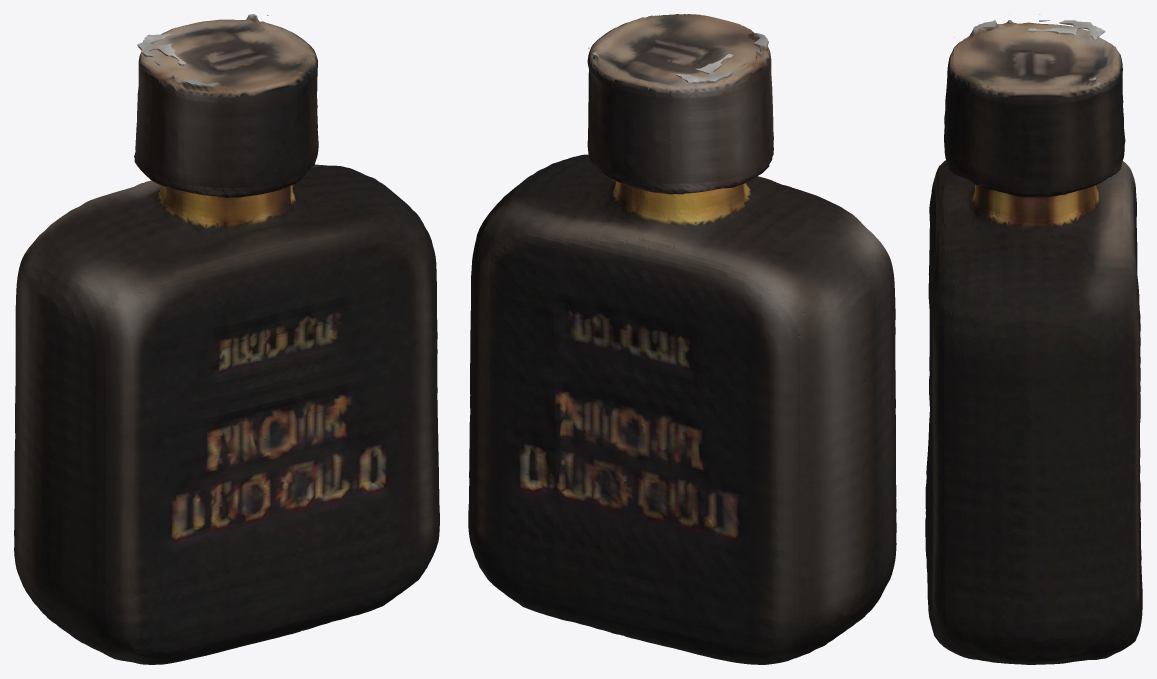
The model's file is product2.glb.
3 views of the same model, side by side, from view 1: azimuth 30°, elevation 25°; view 2: azimuth 150°, elevation 25°; view 3: azimuth 270°, elevation 25° (orthographic). The views are drawn at different scales.
Parts seen in each view (by area): view 1: world; view 2: world; view 3: world.
Boxes of the visible parts, box(x1,y1,x2,y2) form: world: box(14, 14, 439, 664); world: box(468, 14, 896, 664); world: box(925, 14, 1142, 664).
Size of the model in its own units: 1.39 by 2 by 0.7093.
